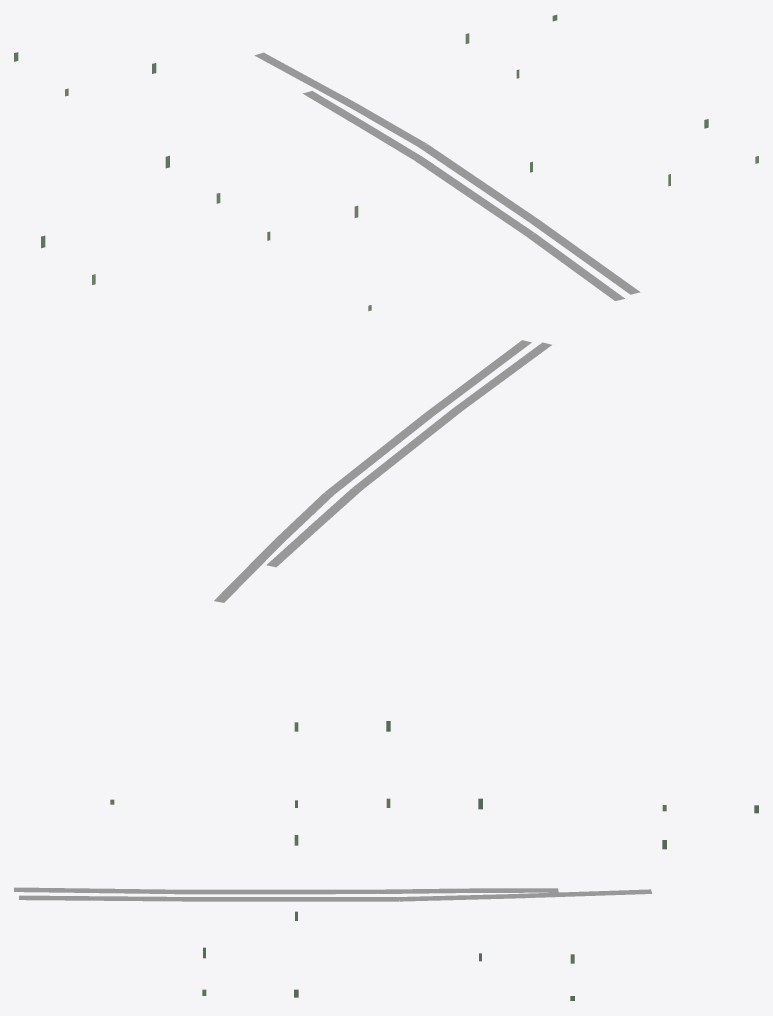
The picture shows the model from 3 angles, top to bottom: view 1: azimuth 30°, elevation 25°; view 2: azimuth 150°, elevation 25°; view 3: azimuth 270°, elevation 25°; orthographic projection. The views are drawn at different scales.
Bounding box in the file's own units: 423 × 15.43 × 486.
